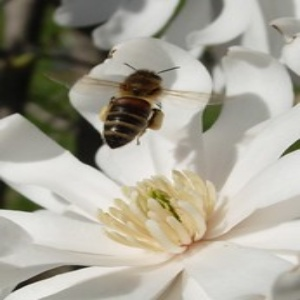bee: (82, 60, 227, 150)
